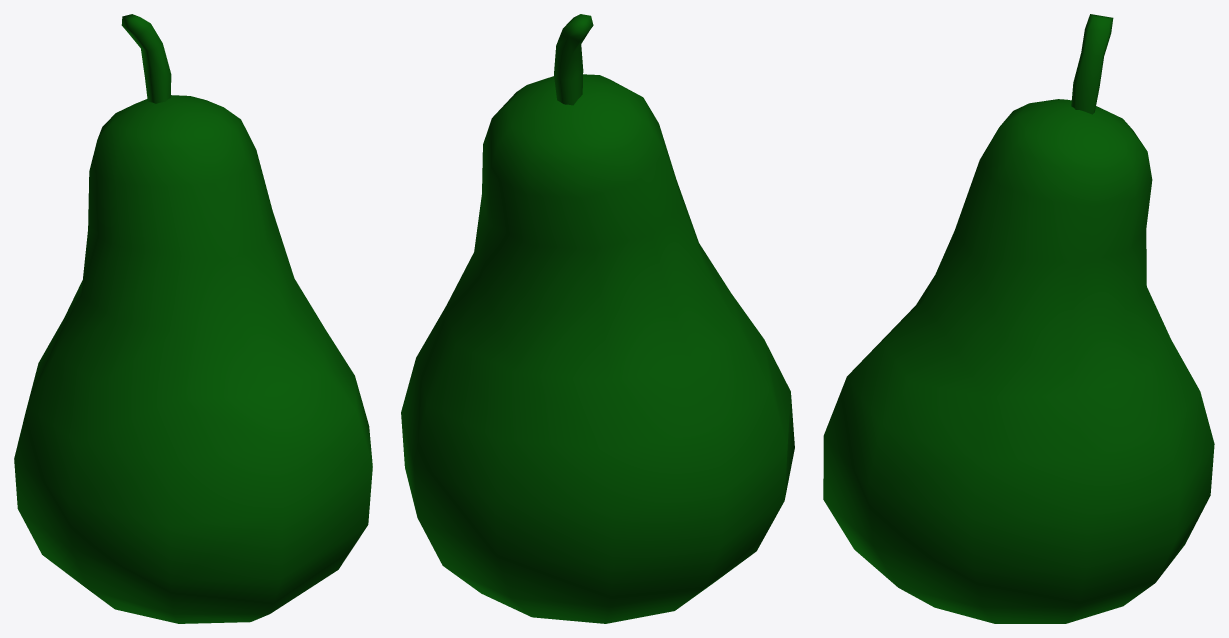
Rendered from fruit03.FBX.
3 views of the same model, side by side, from view 1: azimuth 30°, elevation 25°; view 2: azimuth 150°, elevation 25°; view 3: azimuth 270°, elevation 25° (orthographic). The views are drawn at different scales.
Parts seen in each view (by area): view 1: SM_fruit03_0; view 2: SM_fruit03_0; view 3: SM_fruit03_0.
Boxes of the visible parts, x1=… form: SM_fruit03_0: x1=14, y1=14, x2=372, y2=623; SM_fruit03_0: x1=401, y1=14, x2=794, y2=623; SM_fruit03_0: x1=823, y1=14, x2=1214, y2=623.
Bounding box in the file's own units: 7.33 × 8.1 × 12.69.
